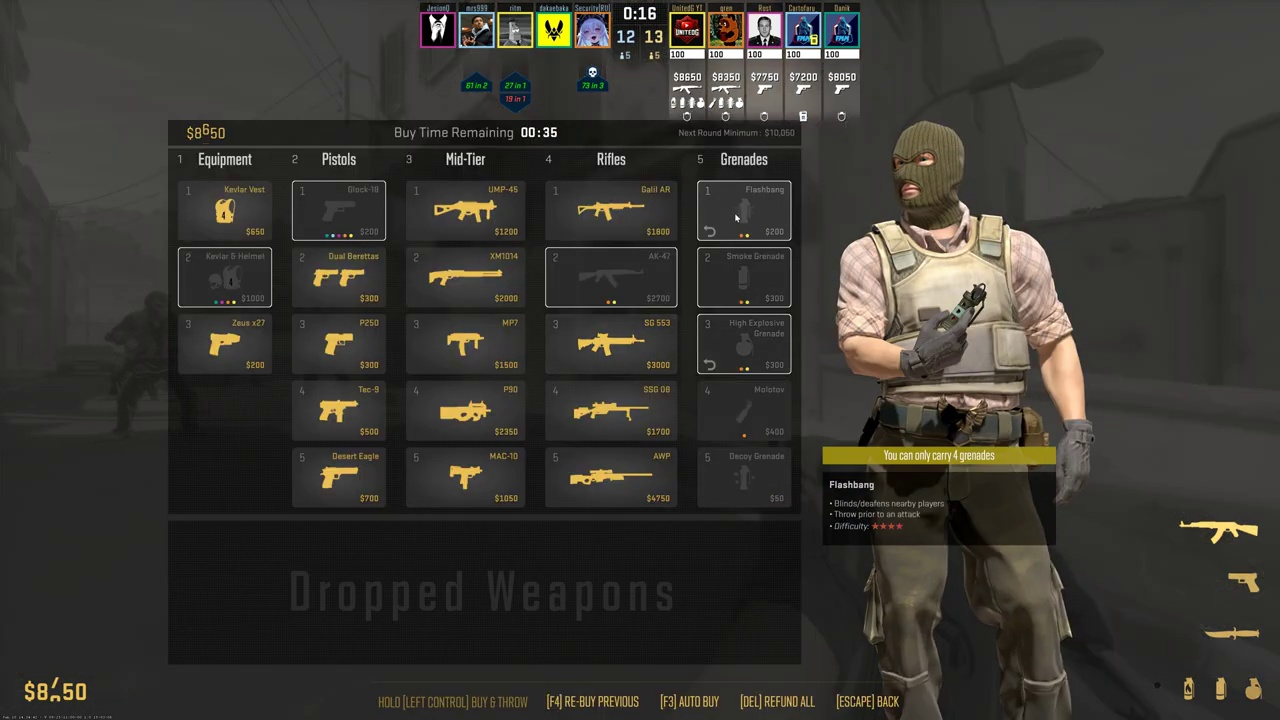Terrorist: (845, 120, 1075, 710)
